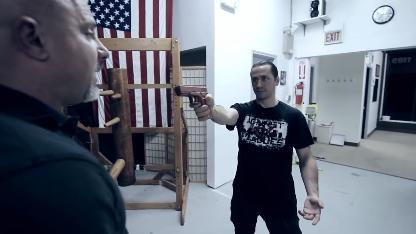pistol: (173, 84, 213, 119)
